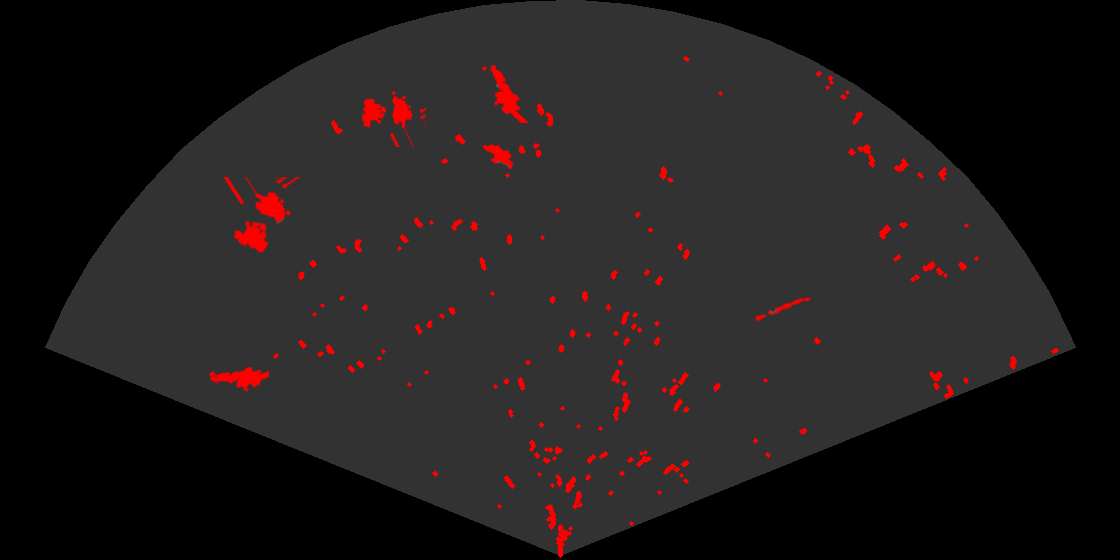AUV: (481, 143, 515, 171)
cage: (221, 177, 302, 254), (360, 89, 426, 147)
chain: (750, 296, 813, 324)
frogman: (488, 63, 530, 123), (208, 365, 269, 393)
